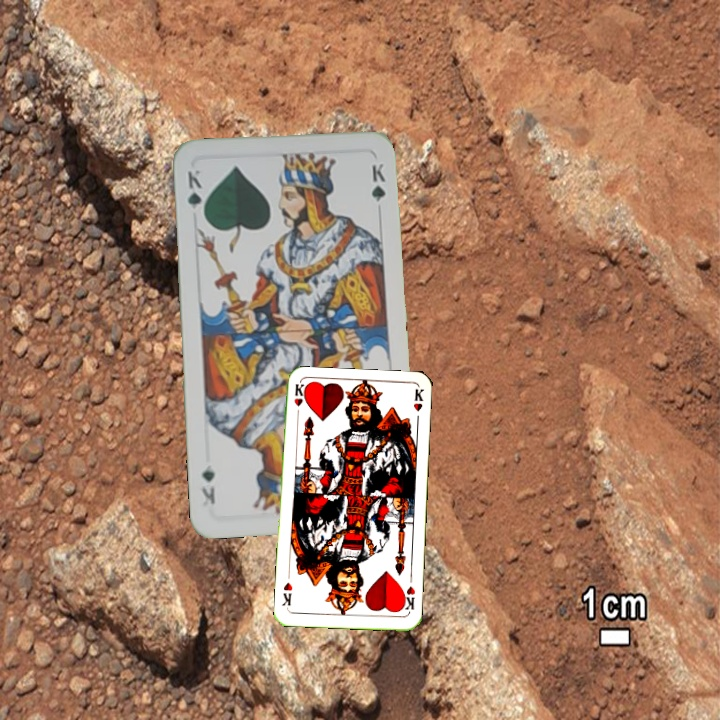GK: (183, 165, 207, 222)
HK: (290, 381, 306, 422), (398, 582, 418, 612)
